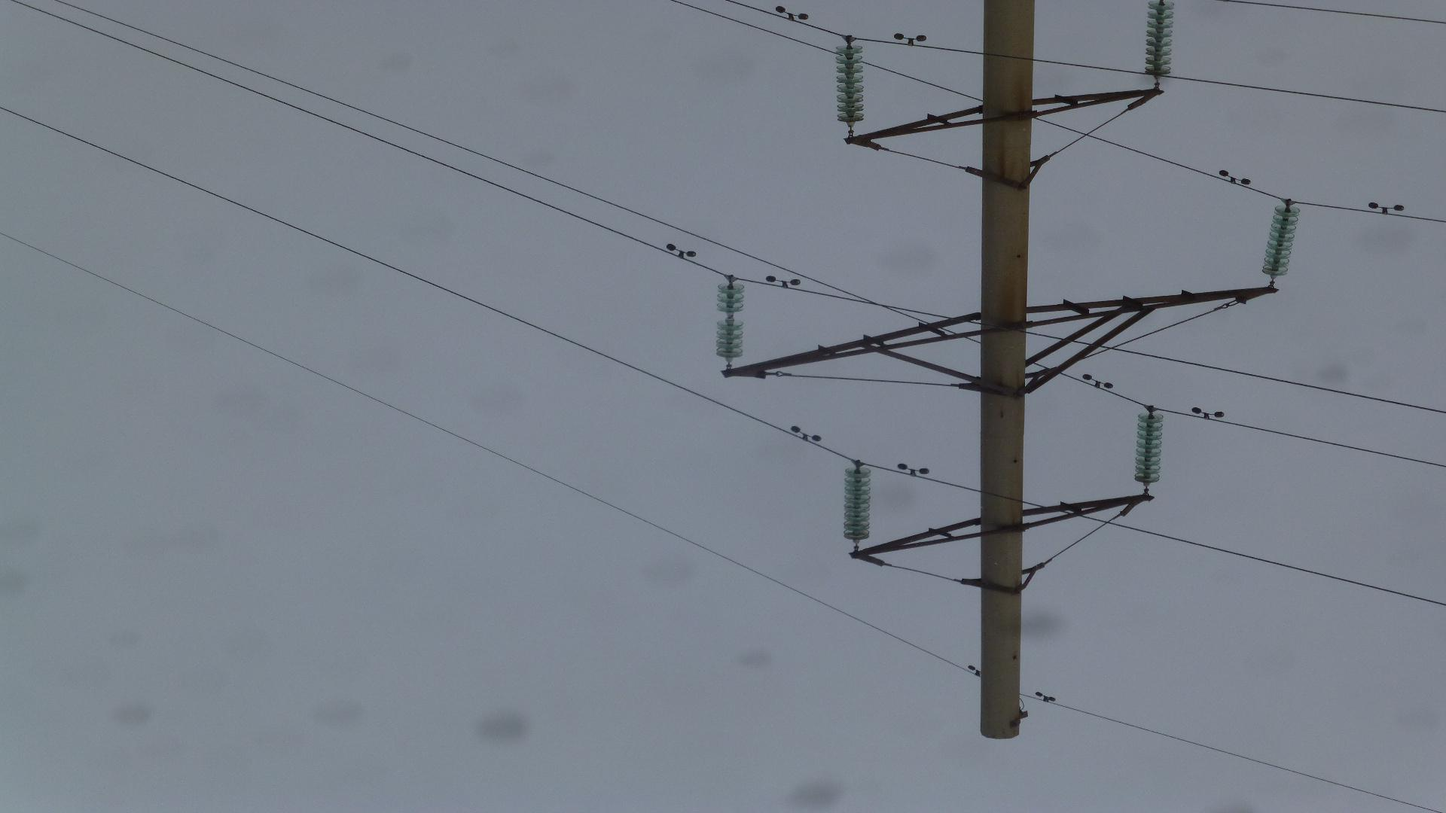insulator: (1259, 201, 1302, 281), (832, 40, 870, 127), (712, 280, 750, 363), (1141, 1, 1178, 82), (839, 464, 875, 544), (1133, 408, 1168, 487)
insulator_stringdrop: (712, 300, 747, 334)
